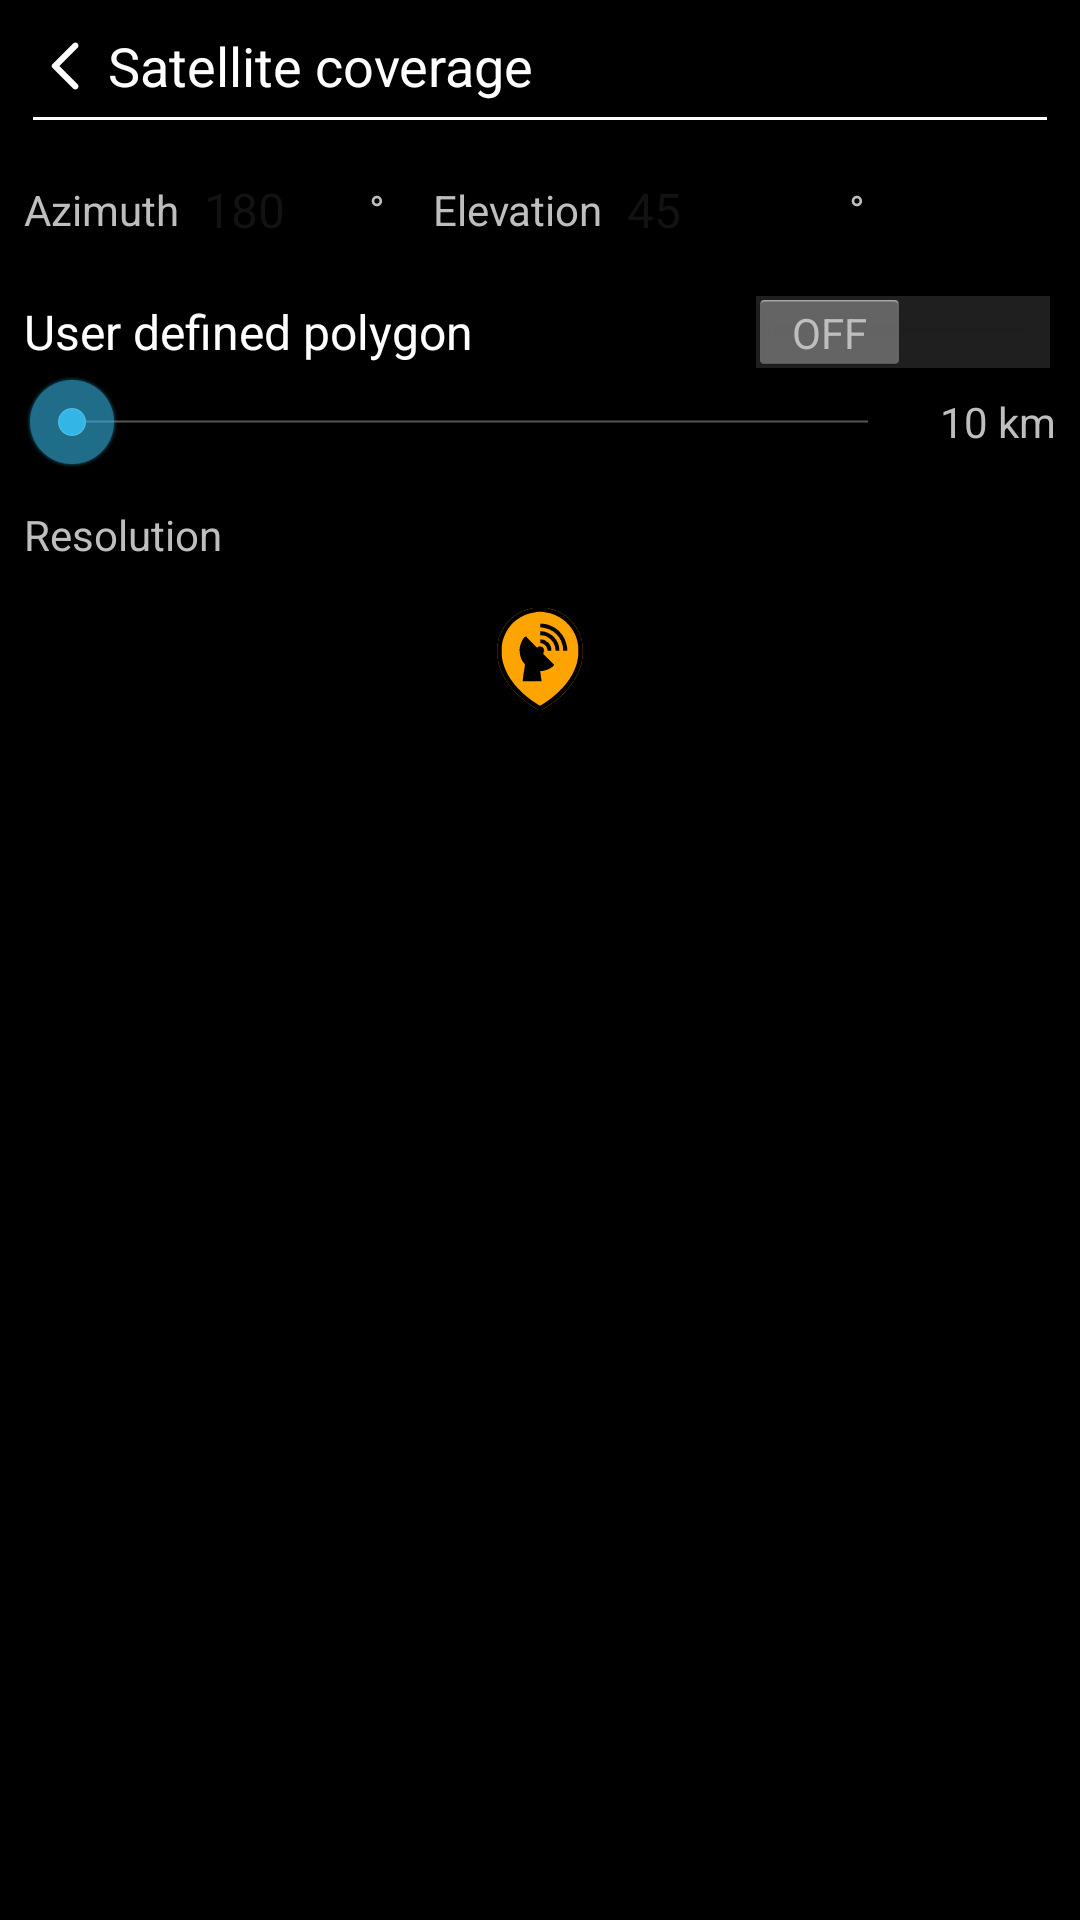

Where icons sit on this 1080px×1920px app screen, as bbox(x1, y1, x2, y2):
back arrow: bbox(51, 42, 79, 90)
